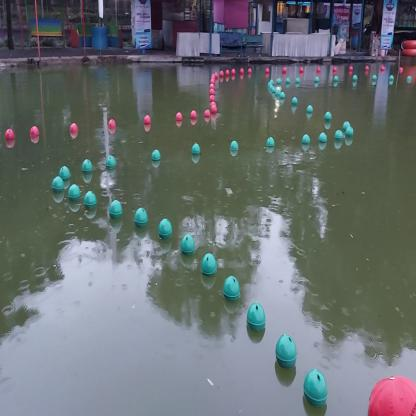green_buoy: (298, 361, 330, 407), (245, 296, 270, 335), (274, 330, 298, 367), (220, 273, 242, 302), (199, 250, 218, 280), (180, 230, 196, 256), (108, 193, 122, 222), (158, 213, 172, 242), (84, 188, 97, 213), (66, 182, 80, 204), (133, 209, 149, 227), (51, 175, 65, 195), (104, 153, 118, 171), (58, 164, 72, 180), (82, 156, 92, 173), (334, 127, 344, 143), (150, 148, 161, 162), (191, 141, 201, 156), (318, 130, 327, 145), (266, 135, 275, 150), (345, 126, 355, 139), (231, 138, 238, 154), (342, 119, 352, 130), (324, 109, 332, 122), (302, 133, 310, 144), (306, 104, 314, 113), (290, 96, 298, 104)
red_buoy: (28, 124, 40, 137), (4, 128, 15, 142), (69, 122, 79, 134), (143, 114, 152, 126), (107, 118, 116, 129), (190, 108, 198, 120), (175, 110, 183, 121), (210, 103, 217, 115), (204, 107, 210, 118)
